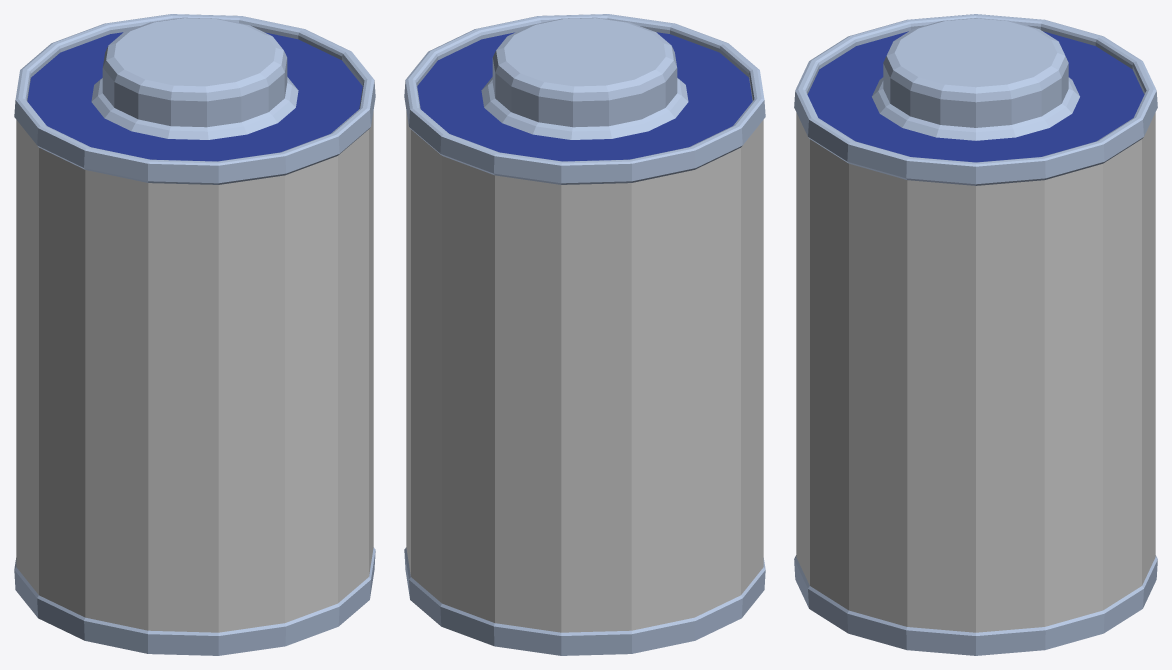
File: Barrel_Elect.fbx
3 views of the same model, side by side, from view 1: azimuth 30°, elevation 25°; view 2: azimuth 150°, elevation 25°; view 3: azimuth 270°, elevation 25° (orthographic).
Visible parts, largest first — view 1: Barrel; view 2: Barrel; view 3: Barrel.
Part boxes in pixels (box(x1,y1,x2,y2)): Barrel: box(14, 14, 375, 655); Barrel: box(404, 14, 765, 655); Barrel: box(794, 14, 1157, 655).
Bounding box in the file's own units: 200 × 200 × 321.
